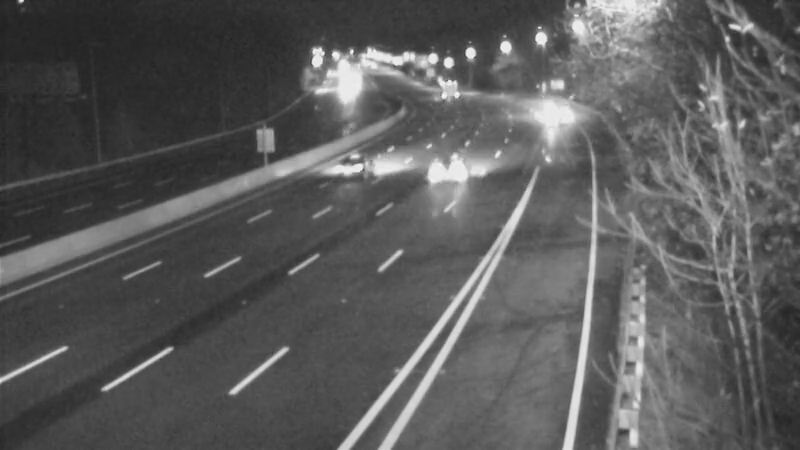vehicle: (407, 125, 487, 205), (416, 64, 466, 114), (530, 84, 580, 134), (323, 66, 373, 116)
